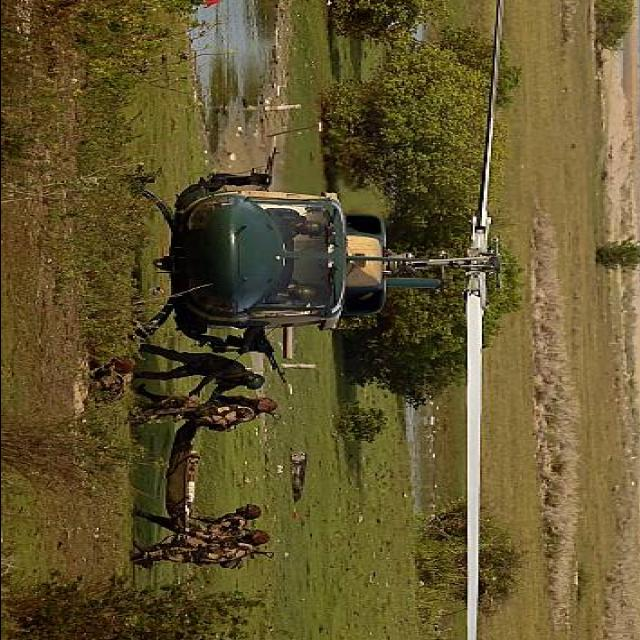soldier: (134, 343, 264, 394), (130, 389, 277, 430), (132, 530, 271, 568), (136, 504, 260, 534), (264, 208, 322, 240), (271, 281, 316, 305)
